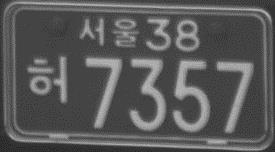3: (128, 56, 168, 133), (144, 15, 173, 53)
5: (170, 58, 212, 134)
7: (213, 59, 256, 136), (82, 54, 123, 131)
8: (174, 18, 202, 54)
서울_O: (78, 15, 140, 50)
허: (24, 53, 71, 103)
